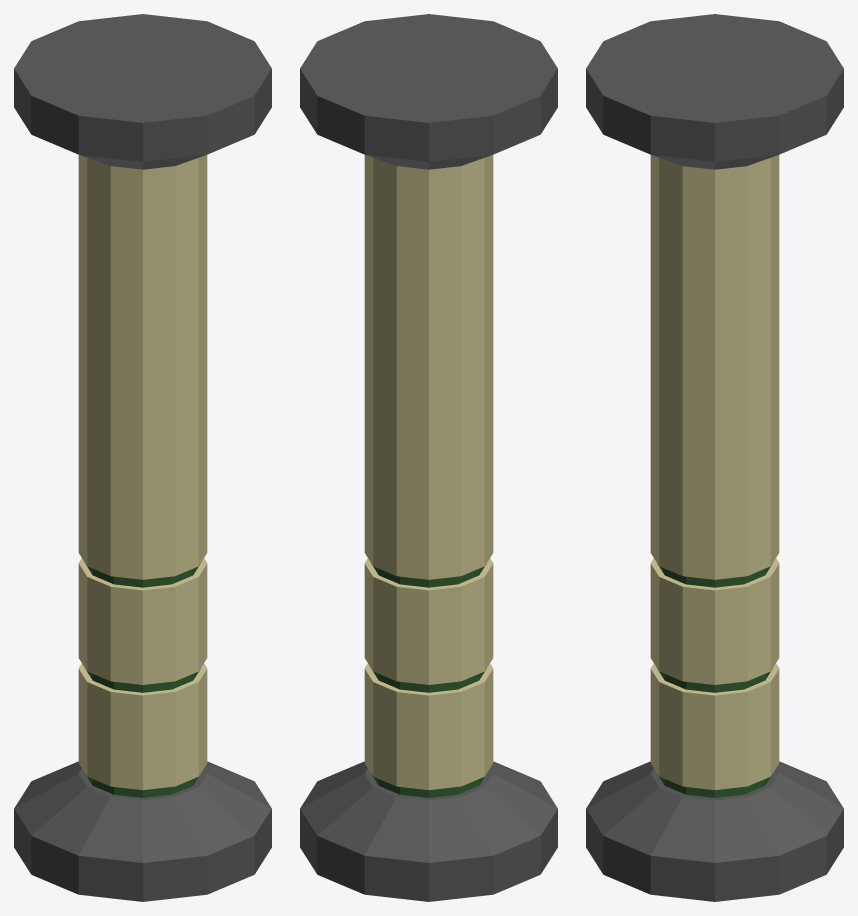
Rendered from Pillar.fbx.
3 renders of one model, left to right at view 1: azimuth 30°, elevation 25°; view 2: azimuth 150°, elevation 25°; view 3: azimuth 270°, elevation 25°, orthographic.
Visible parts, largest first — view 1: Pillar; view 2: Pillar; view 3: Pillar.
Part boxes in pixels (x1,y1,x2,y2): Pillar: [14, 14, 271, 901]; Pillar: [300, 14, 557, 901]; Pillar: [586, 14, 843, 901].
Bounding box in the file's own units: 600 × 2000 × 600.
